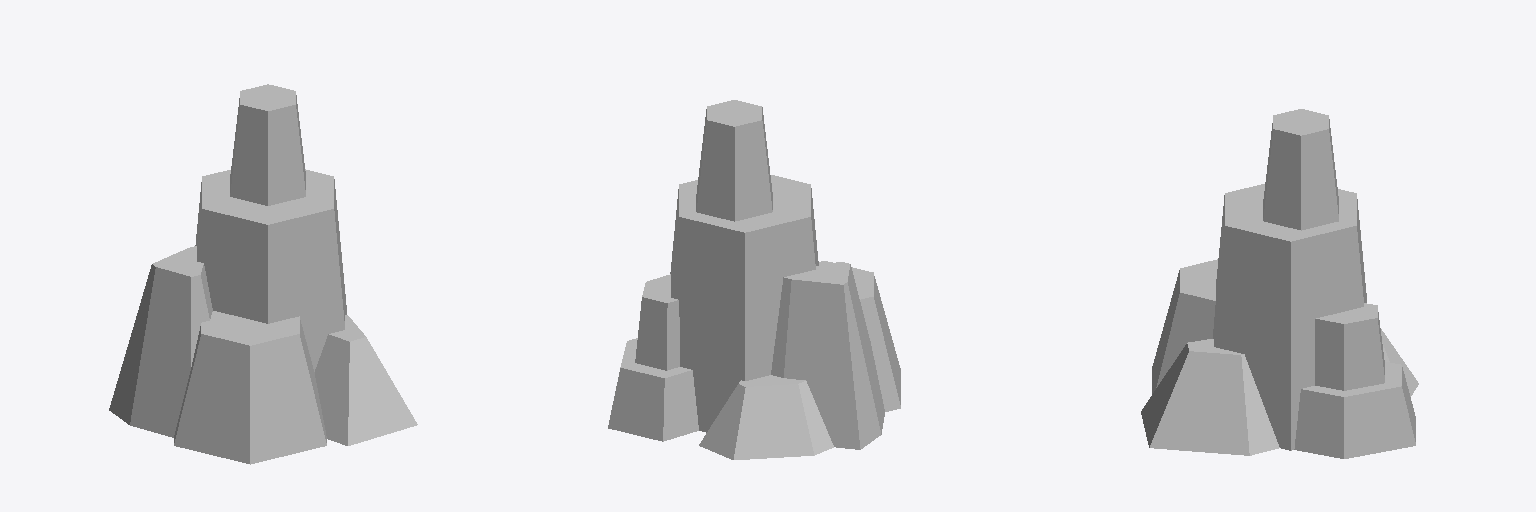
Rendered from stone_tallB.obj.
The picture shows the model from 3 angles: view 1: azimuth 30°, elevation 25°; view 2: azimuth 150°, elevation 25°; view 3: azimuth 270°, elevation 25°; orthographic projection.
Parts seen in each view (by area): view 1: stone_tallB; view 2: stone_tallB; view 3: stone_tallB.
Part boxes in pixels (x1,y1,x2,y2): stone_tallB: (109,84,417,464); stone_tallB: (608,100,900,459); stone_tallB: (1141,109,1418,458).
Bounding box in the file's own units: 0.7648 × 0.8838 × 0.77.